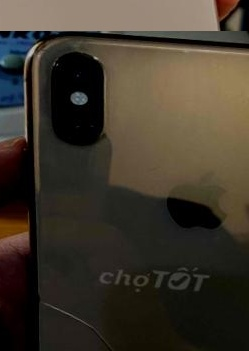physical_damage: (17, 283, 249, 351)
scratch: (163, 42, 247, 82), (234, 205, 249, 274)
